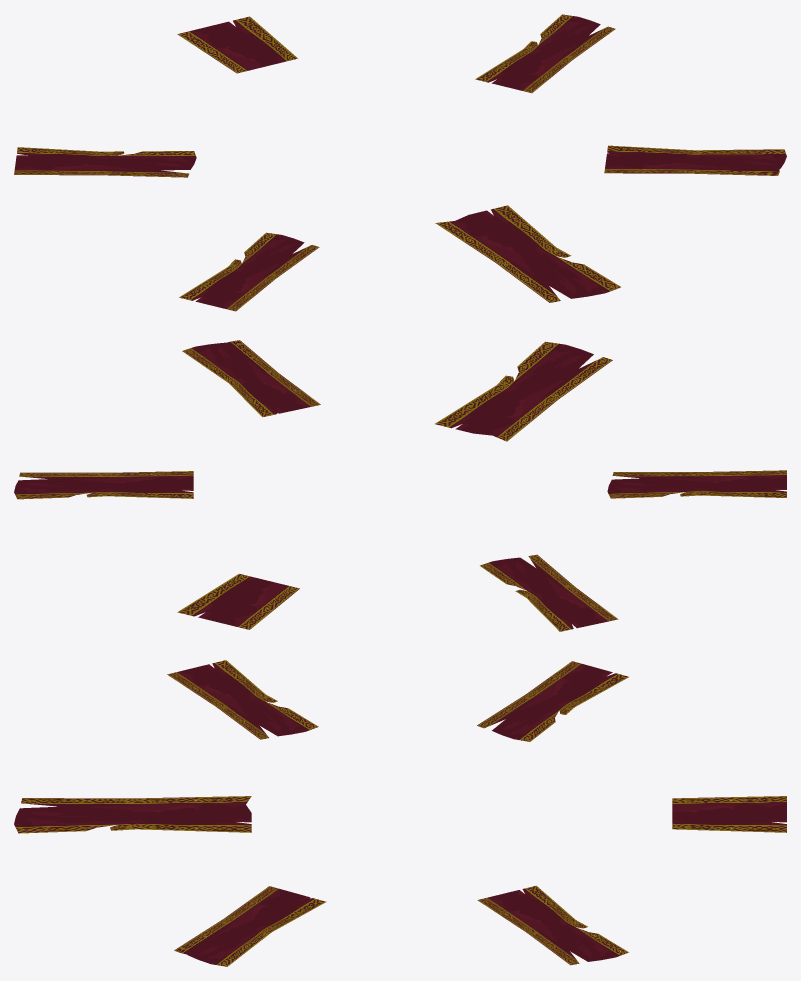
The model's file is MainRug.fbx.
3 renders of one model, top to bottom at view 1: azimuth 30°, elevation 25°; view 2: azimuth 150°, elevation 25°; view 3: azimuth 270°, elevation 25°, orthographic. The views are drawn at different scales.
Parts seen in each view (by area): view 1: SM_PROP_rug_dungeon_01.006, SM_PROP_rug_dungeon_01.010, SM_PROP_rug_dungeon_01.011, SM_PROP_rug_dungeon_01.008, SM_PROP_rug_dungeon_01.009, SM_PROP_rug_dungeon_01.007; view 2: SM_PROP_rug_dungeon_01.006, SM_PROP_rug_dungeon_01.008, SM_PROP_rug_dungeon_01.010, SM_PROP_rug_dungeon_01.011, SM_PROP_rug_dungeon_01.009, SM_PROP_rug_dungeon_01.007; view 3: SM_PROP_rug_dungeon_01.006, SM_PROP_rug_dungeon_01.010, SM_PROP_rug_dungeon_01.008, SM_PROP_rug_dungeon_01.009, SM_PROP_rug_dungeon_01.011, SM_PROP_rug_dungeon_01.007.
Boxes of the visible parts, x1,y1,x2,y2 form: SM_PROP_rug_dungeon_01.006: (435,205,620,302); SM_PROP_rug_dungeon_01.010: (604,145,786,175); SM_PROP_rug_dungeon_01.011: (14,147,196,177); SM_PROP_rug_dungeon_01.008: (475,14,615,93); SM_PROP_rug_dungeon_01.009: (179,232,319,311); SM_PROP_rug_dungeon_01.007: (177,16,297,73); SM_PROP_rug_dungeon_01.006: (435,341,612,441); SM_PROP_rug_dungeon_01.008: (14,471,193,499); SM_PROP_rug_dungeon_01.010: (182,340,320,417); SM_PROP_rug_dungeon_01.011: (480,554,618,631); SM_PROP_rug_dungeon_01.009: (607,470,786,498); SM_PROP_rug_dungeon_01.007: (177,573,299,629); SM_PROP_rug_dungeon_01.006: (14,796,251,833); SM_PROP_rug_dungeon_01.010: (174,886,326,966); SM_PROP_rug_dungeon_01.008: (477,885,628,965); SM_PROP_rug_dungeon_01.009: (167,660,318,739); SM_PROP_rug_dungeon_01.011: (477,661,628,741); SM_PROP_rug_dungeon_01.007: (672,796,786,832).
Bounding box in the file's own units: 36.89 × 8.83e-05 × 39.26.
Materials: 1 (1 with a texture image).
